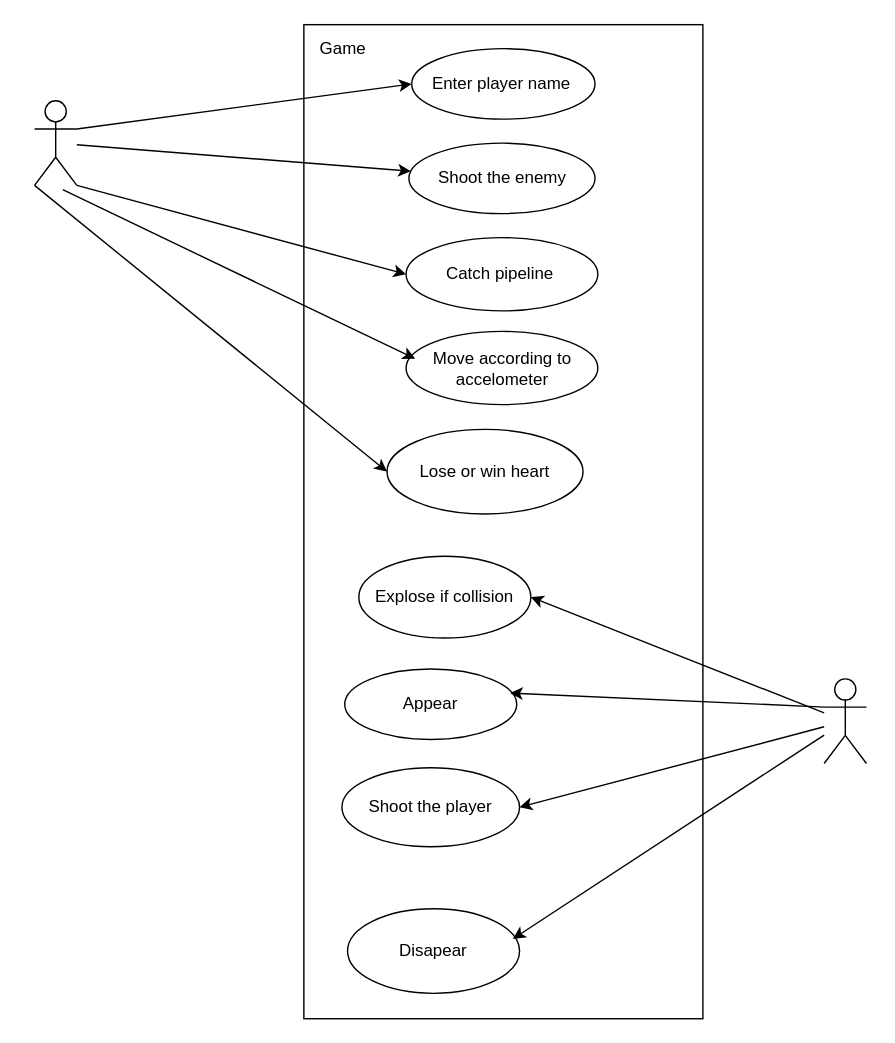
Image size: 895x1043. Some labels were removed from this diagram. Each missing label, with the centre of its shape:
"Enemy" goes at pixel 844 721.
"Player" goes at pixel 55 142.
